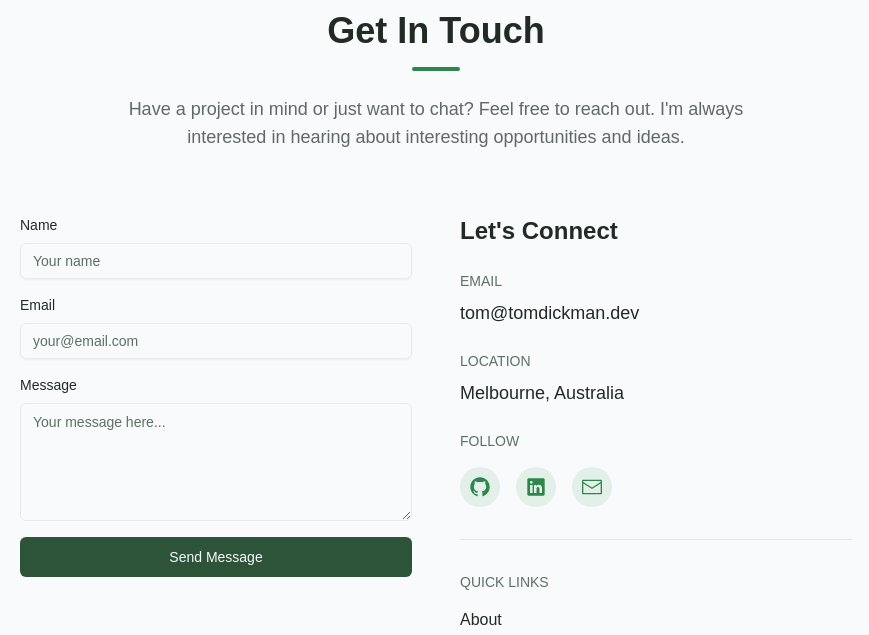
it: Contact › submits valid contact details and confirms success
Step 1. Type "Alice" into the field labelled "Name" → x=216, y=261, box [20,243,412,279]
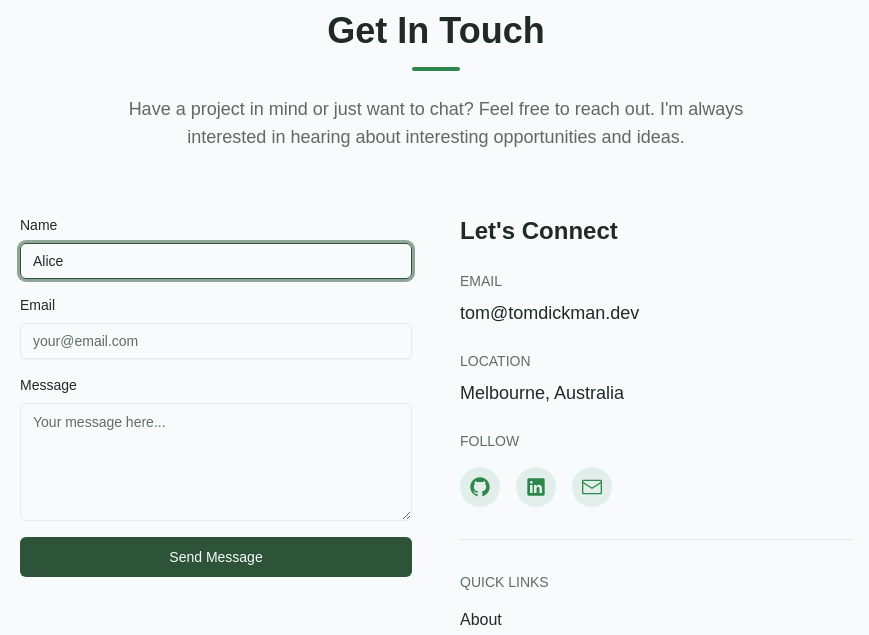
Step 2. Type "alice@example.com" into the field labelled "Email" → x=216, y=341, box [20,323,412,359]
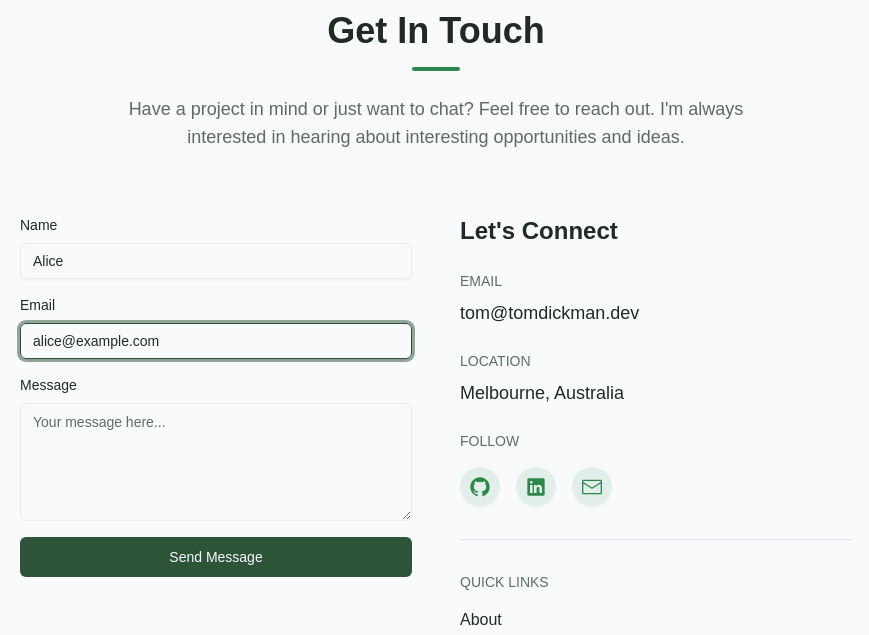
Step 3. Type "Hello there" into the text box labelled "Message" → x=216, y=462, box [20,403,412,521]
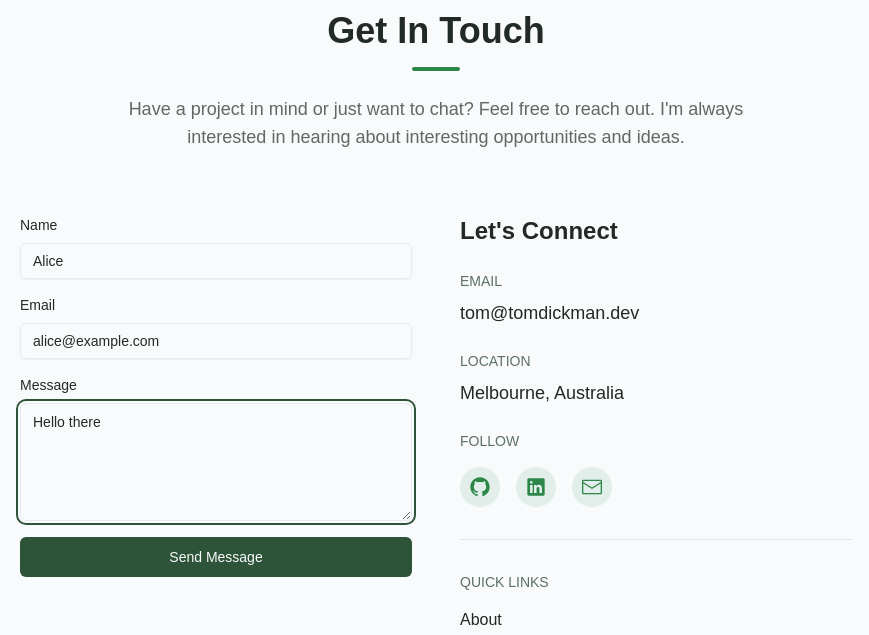
Step 4. Click the button "Send Message" → x=216, y=557, box [20,537,412,577]
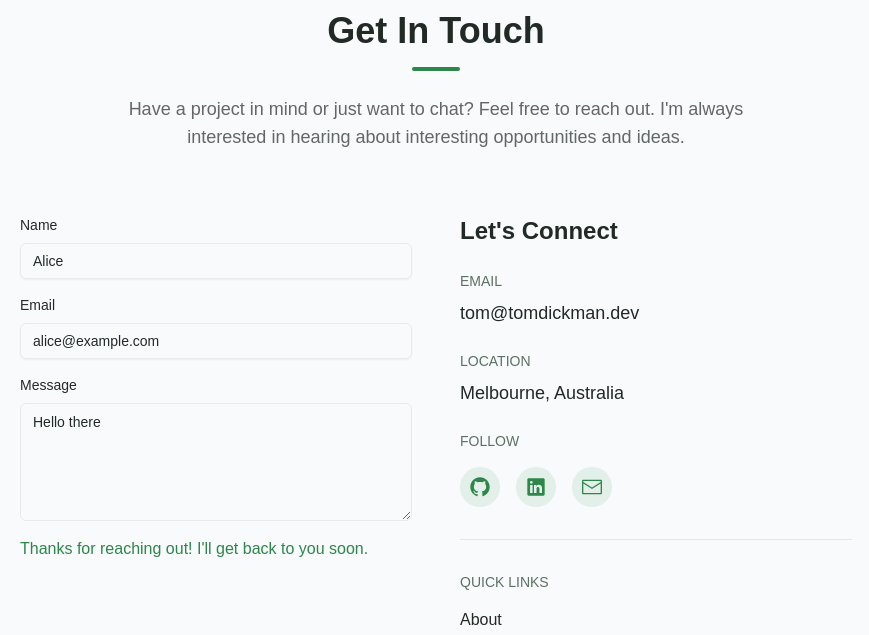
expect the message shows "Thanks for reaching out!": met, box [20,540,368,557]
